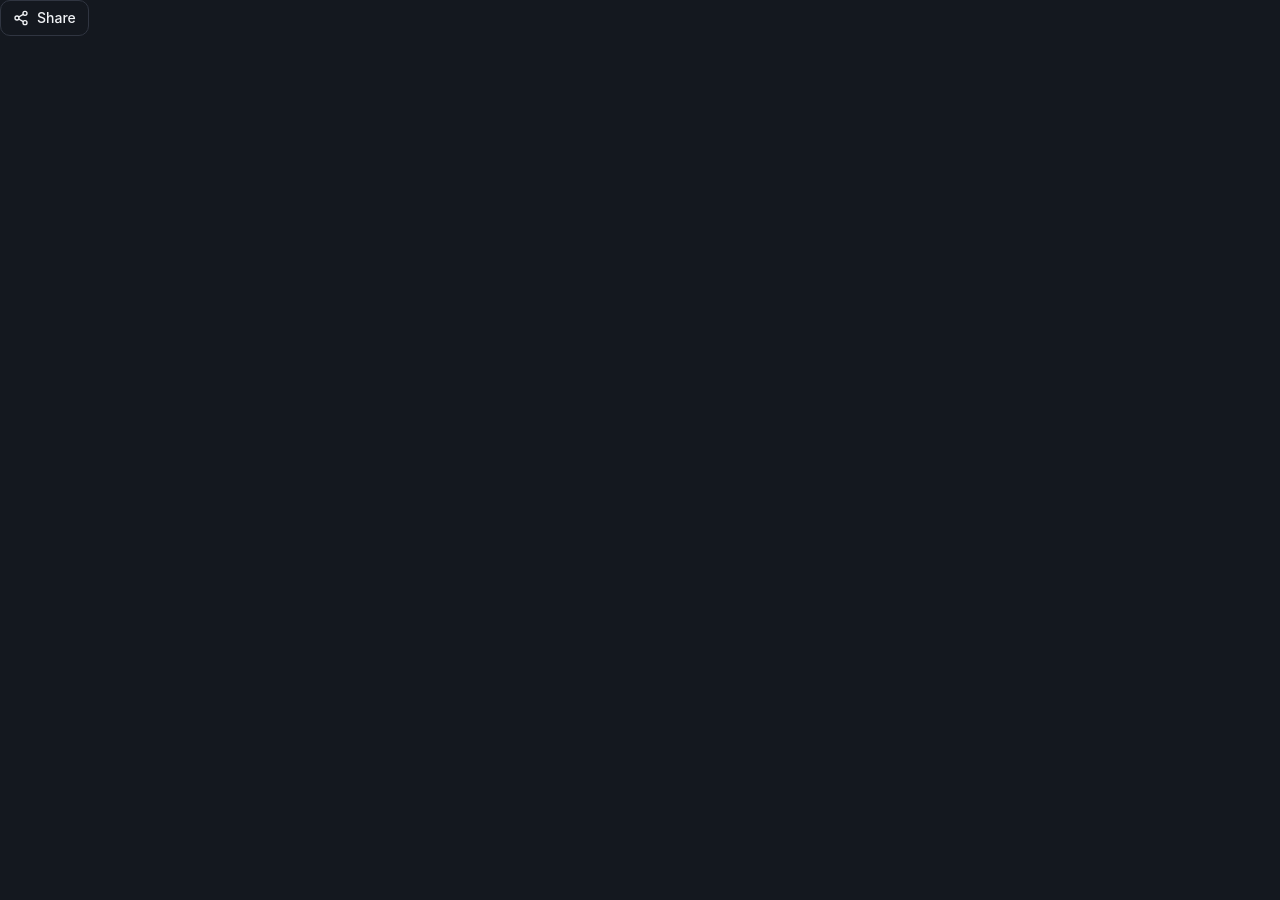
Test: ShareButton › should open popover on click
What coordinates should you click on to do the following:
click the button "Share"
I would click on:
 (44, 18)
Its box is [0,0,89,36].
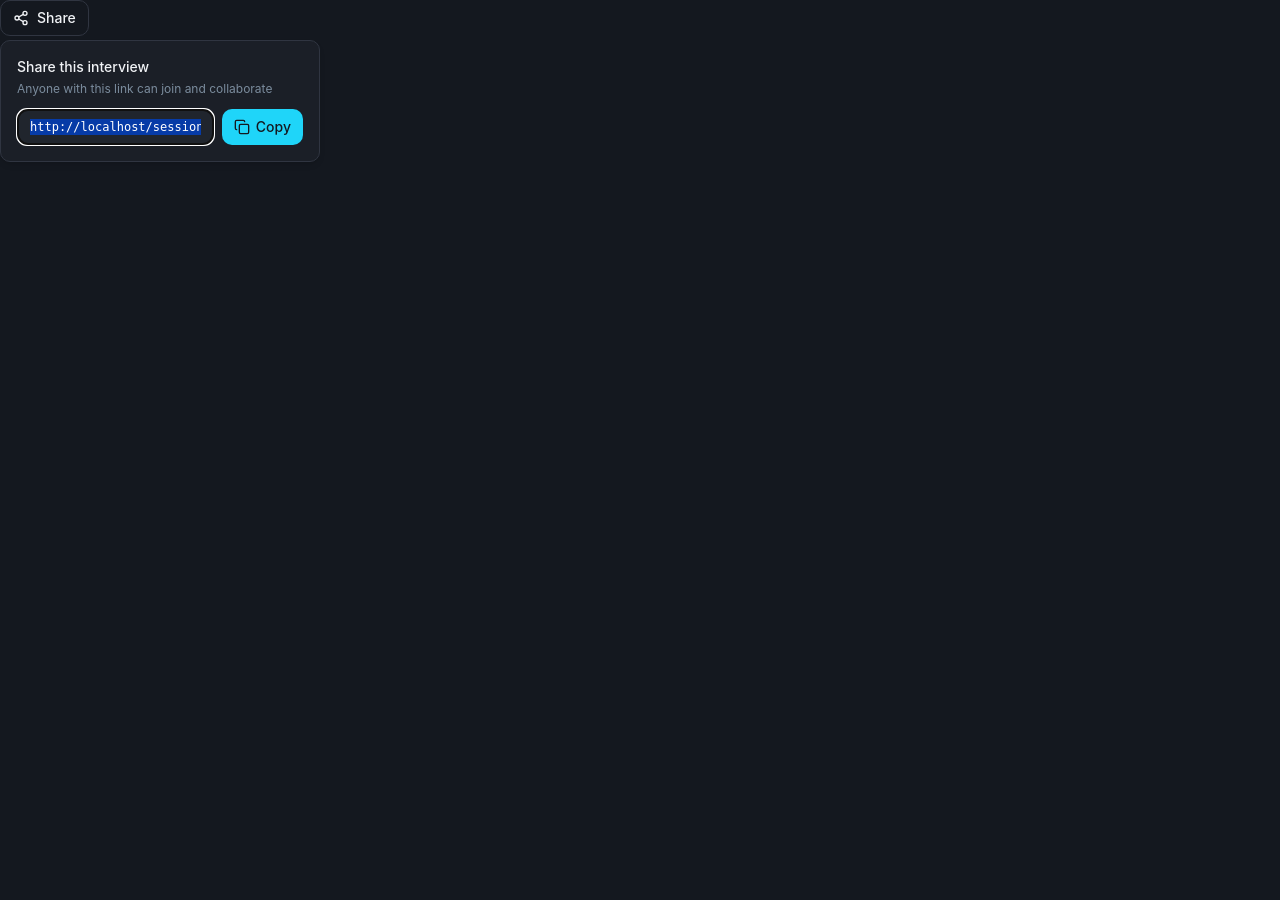
Now the heading "Share this interview" is shown, box [17,58,149,75]
